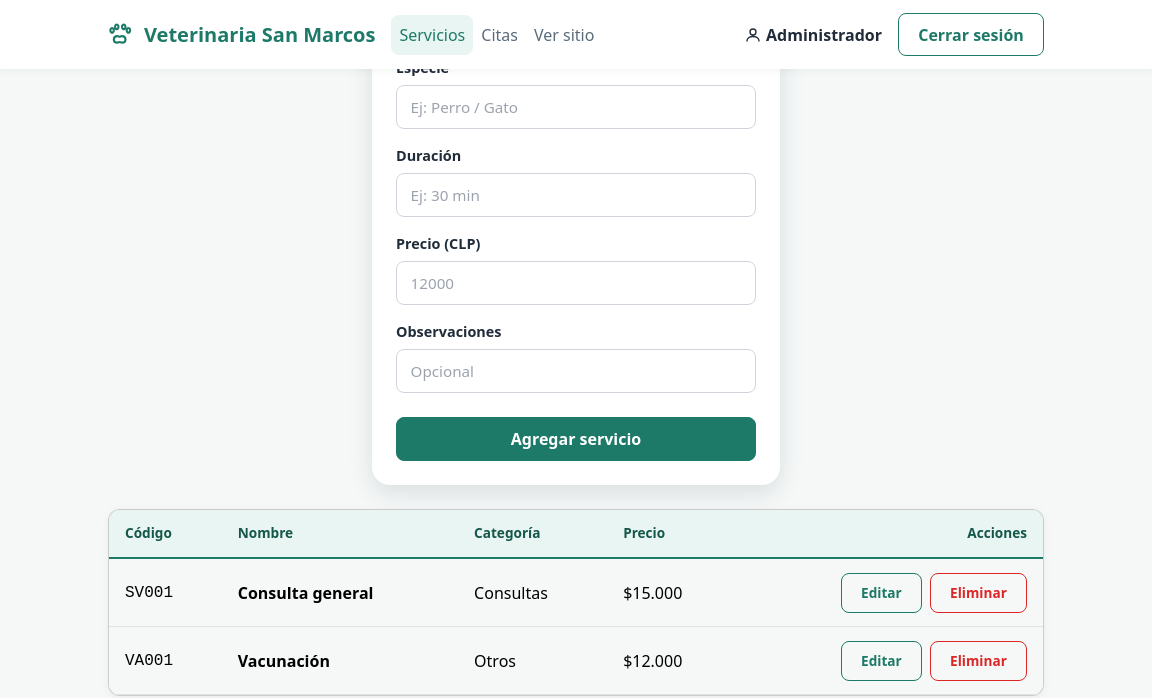
Página AdminServicios › valida campos obligatorios al agregar
(page scrolled)
Click the button "Agregar servicio".
click(576, 439)  # box [396,417,756,461]
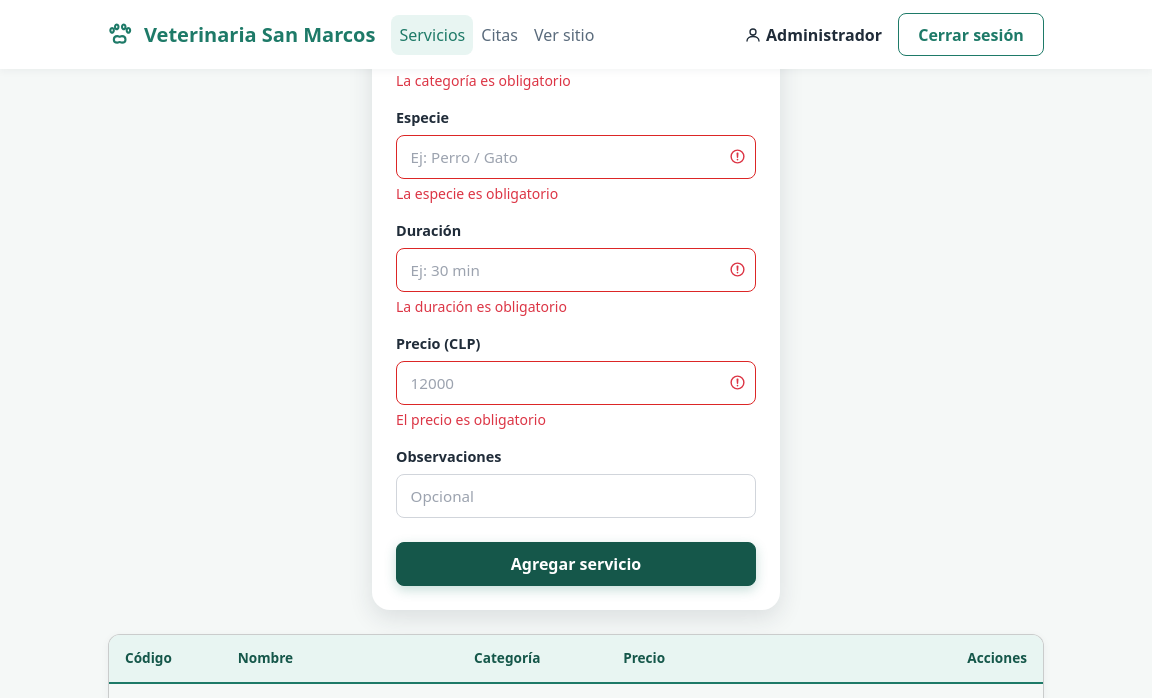
Check: the text "El precio es obligatorio" is shown, box [396,410,546,429]
